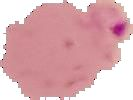parasitized: (91, 6, 133, 45)
